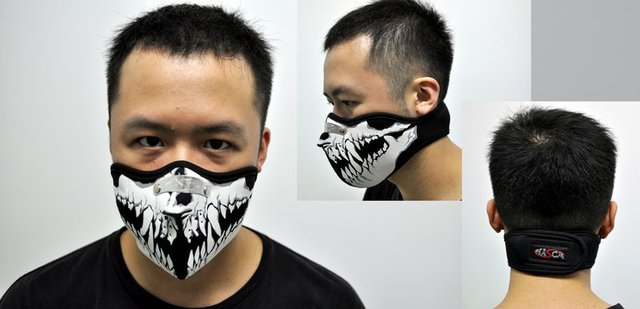mask: (109, 158, 261, 278), (322, 119, 403, 186)
